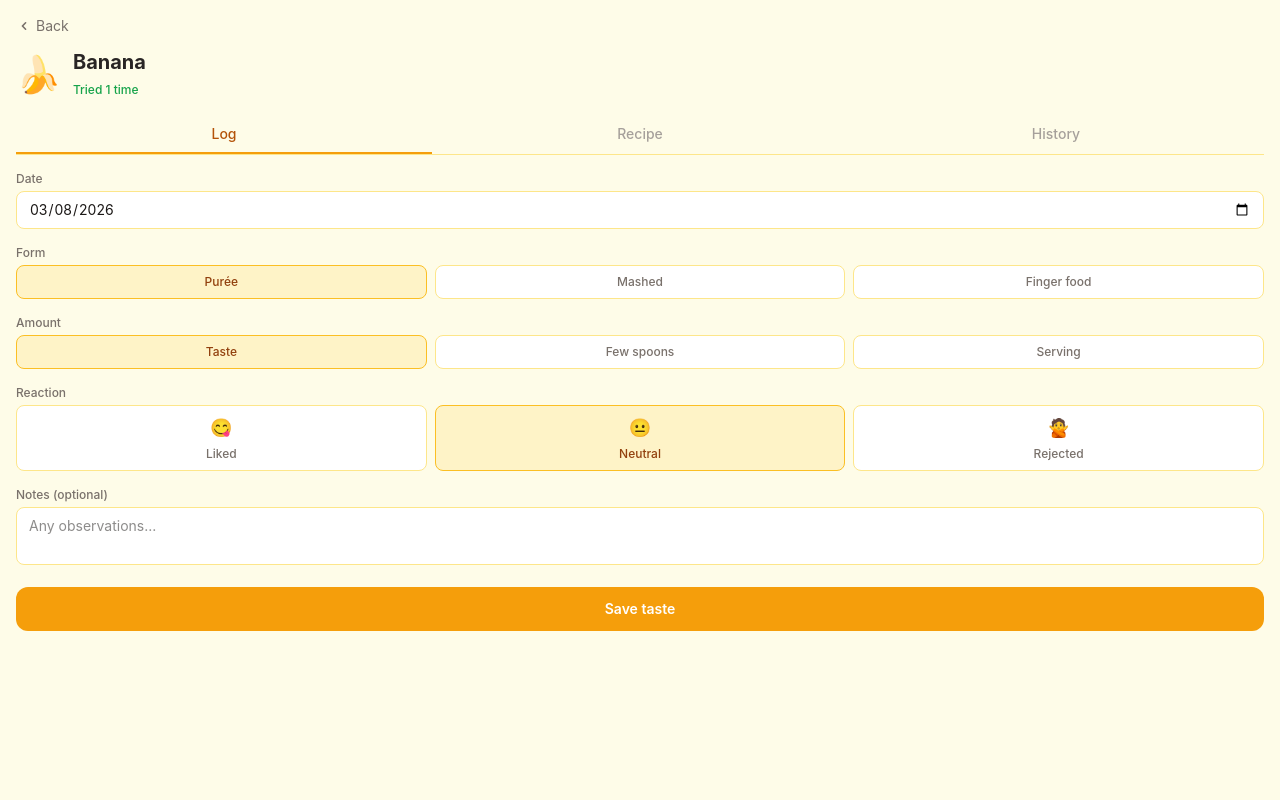
food detail tabs › switching to History tab shows past logs
Click the button "History" at [1056, 135], box x1=848 y1=116 x2=1264 y2=154
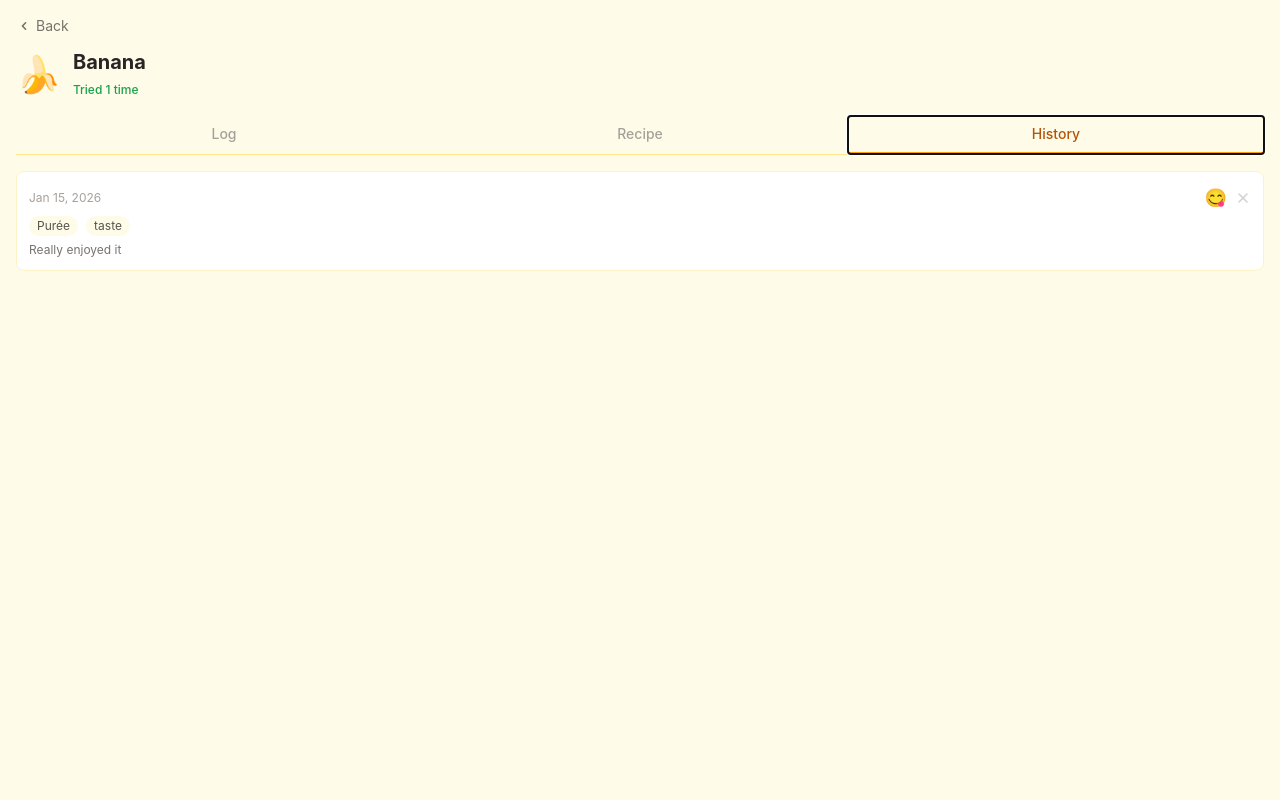
Expected: the text "Purée" is shown, x1=29 y1=216 x2=78 y2=236
Result: the text "Really enjoyed it" is shown at x1=29 y1=242 x2=121 y2=257
